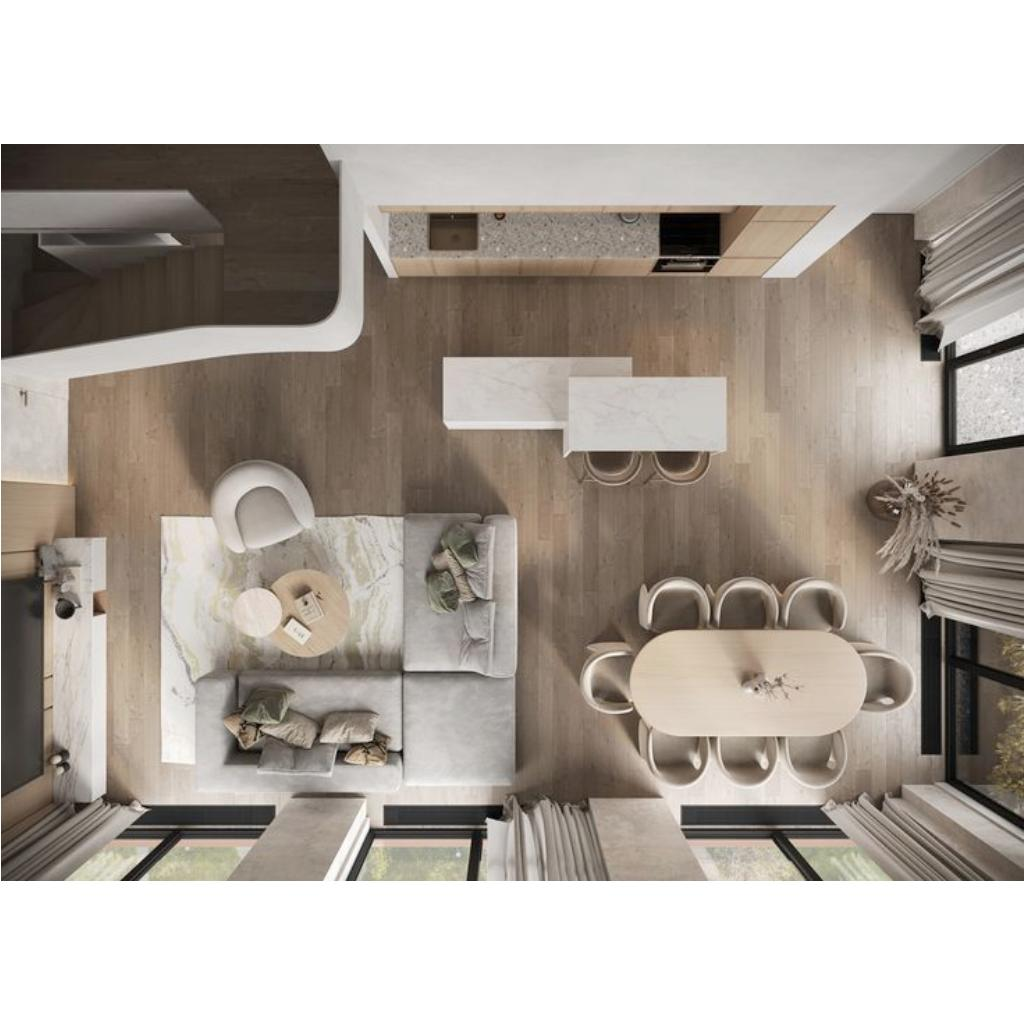TV stand: (4, 534, 102, 816)
chair: (210, 458, 314, 552), (862, 646, 916, 714), (780, 576, 848, 630), (640, 575, 708, 629), (584, 644, 636, 712), (783, 736, 847, 790), (712, 576, 778, 628), (644, 734, 706, 788), (714, 735, 776, 789), (575, 452, 647, 486), (656, 452, 712, 484)
coffee table: (232, 569, 350, 657)
floor plant: (864, 464, 968, 576)
kitchen island: (441, 355, 729, 451)
modular kitchen: (378, 158, 822, 280)
rug: (159, 515, 485, 763)
sofa: (404, 512, 514, 786), (195, 671, 401, 787)
window: (1002, 549, 1022, 837), (1000, 193, 1022, 443), (702, 858, 998, 876), (338, 856, 602, 876), (5, 857, 239, 875)
